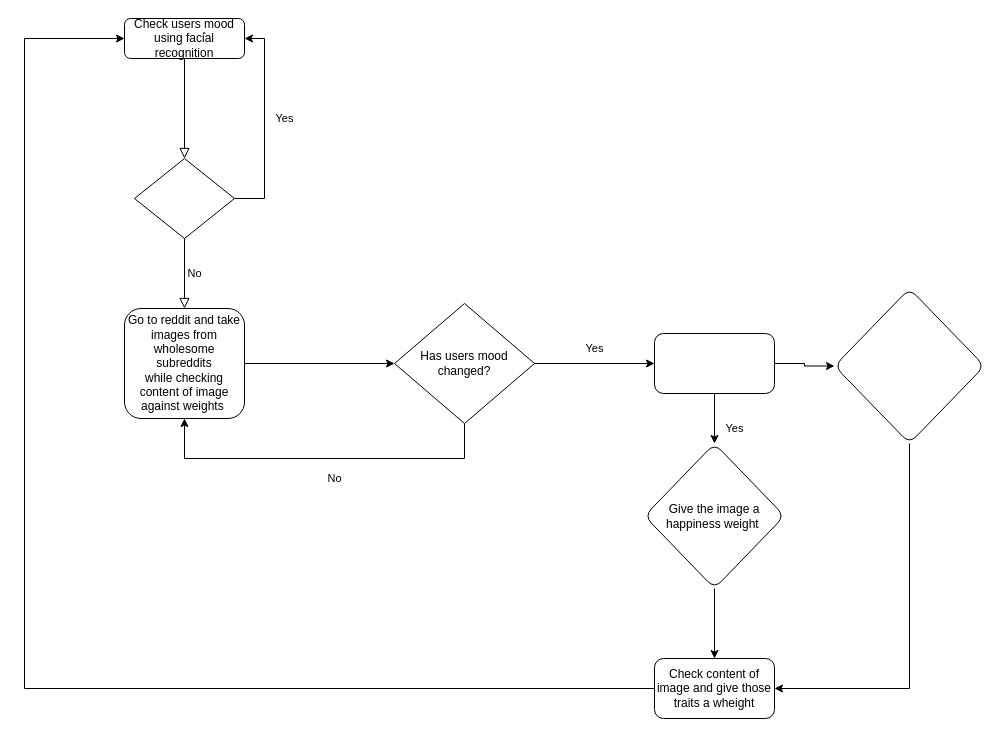
Image size: 1002x736. Some labels were removed from this diagram. Each missing label, with the centre of its shape:
Gives image a dislike weight: the point at 909,366
Has the user gotten happy: the point at 714,363
Is user happy?: the point at 184,198
